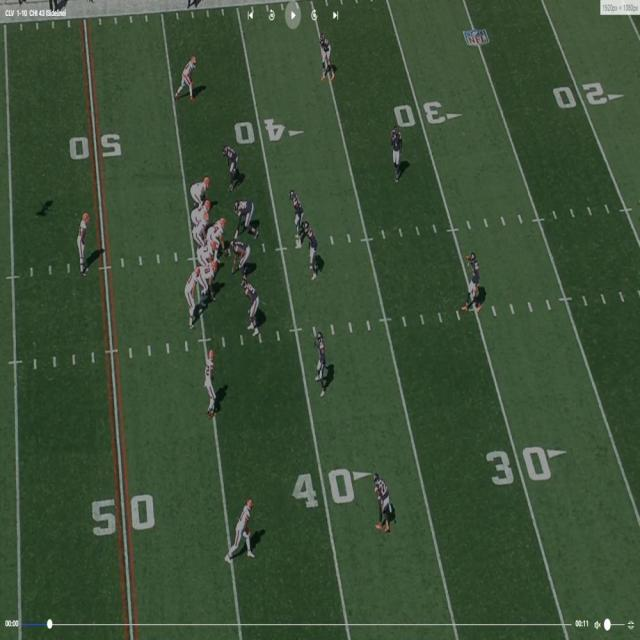center: (212, 219, 228, 262)
db: (374, 477, 396, 530), (468, 255, 482, 311), (318, 328, 328, 394), (394, 126, 406, 178), (322, 36, 336, 79)
lb: (304, 225, 320, 282), (292, 188, 305, 242)
qb: (193, 215, 207, 248)
skill: (229, 500, 254, 561), (177, 55, 196, 101), (185, 268, 198, 321), (206, 350, 216, 414), (79, 211, 89, 269)
